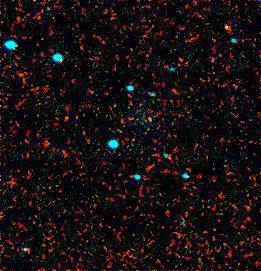star: (212, 14, 242, 44)
